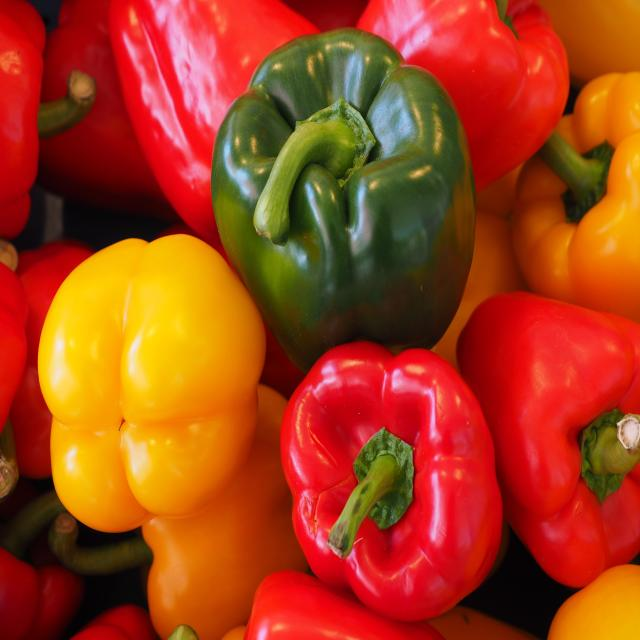Bell pepper: (193, 28, 507, 344), (12, 209, 262, 561), (271, 332, 524, 610)
